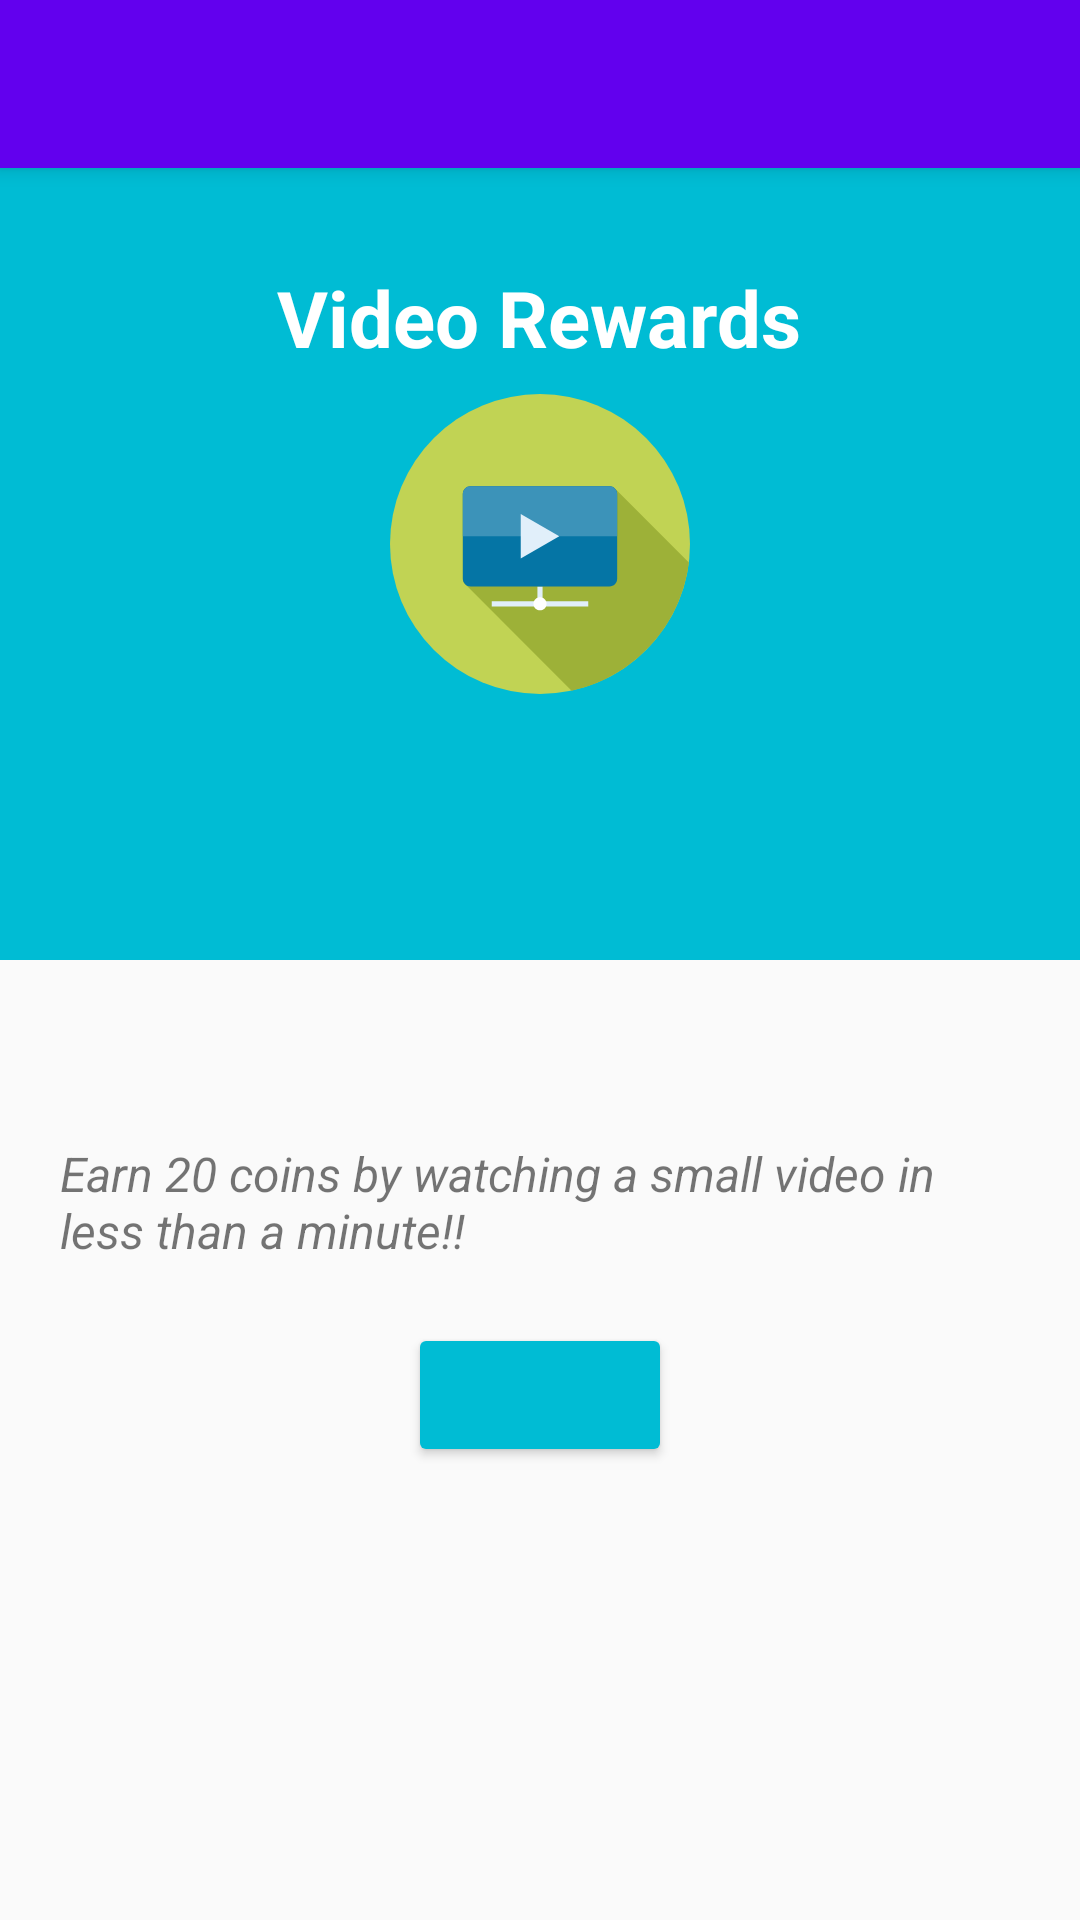

Named icons in this screenshot (1080px×1920px) and their centers, point (x, y):
play video: point (540, 544)
